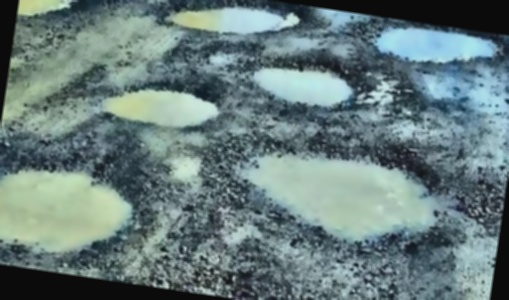pothole: (214, 120, 461, 266), (0, 146, 152, 268), (348, 13, 509, 77), (93, 69, 225, 136), (242, 47, 368, 116), (155, 0, 317, 47), (17, 0, 80, 25)
